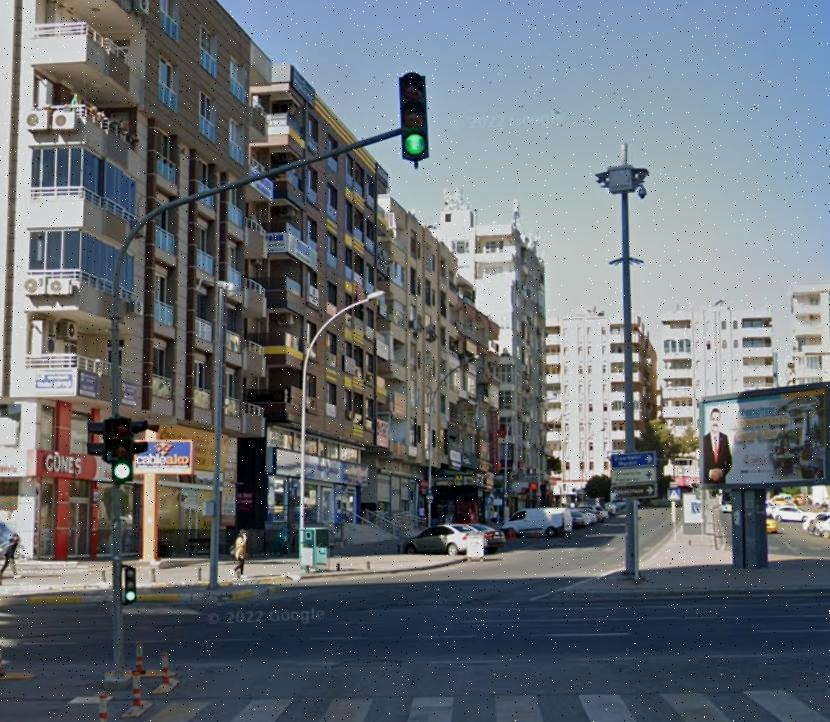greenlight: (399, 71, 432, 164), (110, 414, 136, 486), (119, 563, 147, 609)
